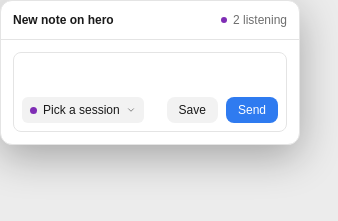
it: Composer › waits on a pick among several listening sessions
Type "Warmer sky" into the text box.
click(150, 79); type("Warmer sky")  # box [22,61,278,97]
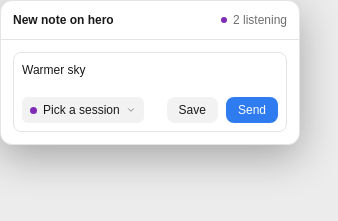
Click the button "Send".
click(252, 110)  # box [226,97,278,123]
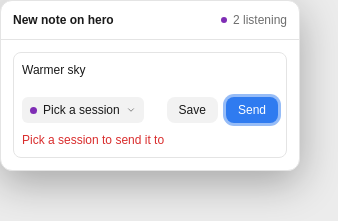
Check: the message reads "Pick a session to send it to", box [22,133,164,147]
